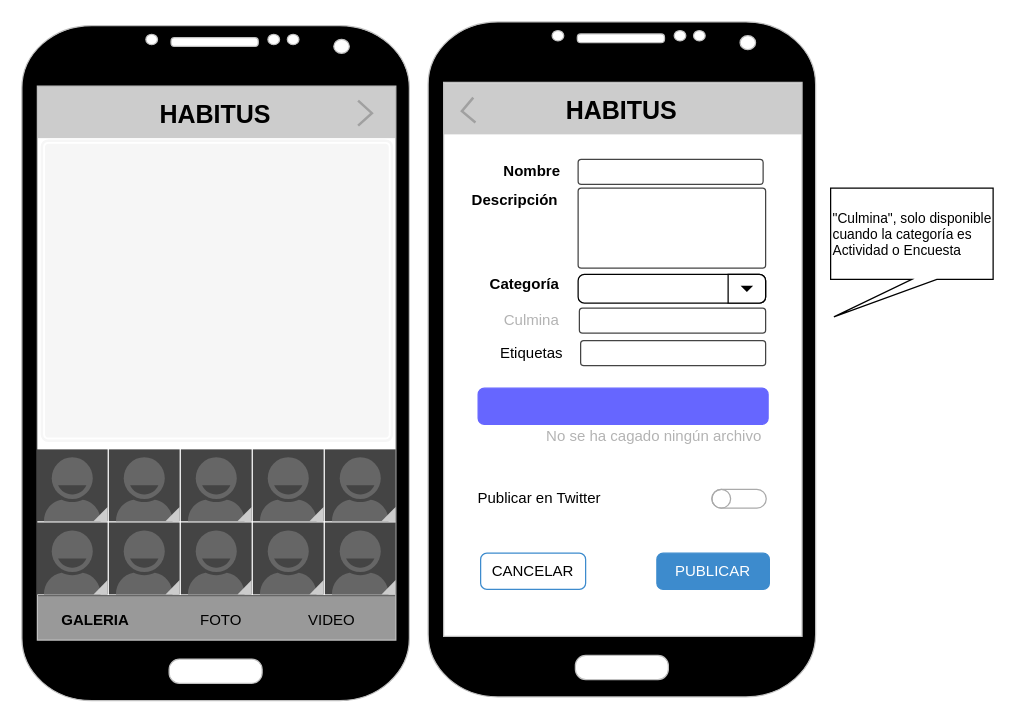
The diagram is 1015 pixels wide and 723 high, and some of its shapes have lost their labels. Here are the shapes that lost their labels. From the top down, the centre of each, then its label:
At (x=216, y=290): "Image".
At (x=671, y=288): "Denuncia".
At (x=622, y=405): "CARGAR ARCHIVO".
